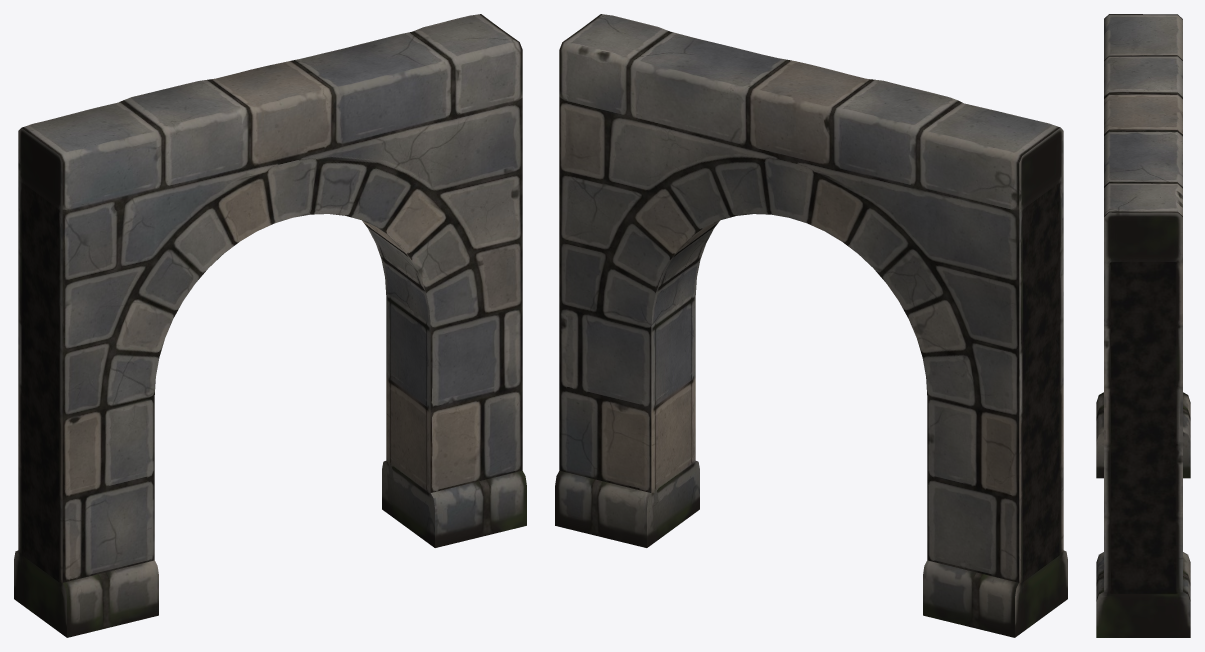
Rendered from wall_door.glb.
3 views of the same model, side by side, from view 1: azimuth 30°, elevation 25°; view 2: azimuth 150°, elevation 25°; view 3: azimuth 270°, elevation 25° (orthographic). The views are drawn at different scales.
Parts seen in each view (by area): view 1: wall_door; view 2: wall_door; view 3: wall_door.
Part boxes in pixels (left/top/right/bottom): wall_door: left=14, top=14, right=526, bottom=637; wall_door: left=555, top=14, right=1067, bottom=637; wall_door: left=1096, top=14, right=1190, bottom=637.
Bounding box in the file's own units: 4 × 3.99 × 0.8.
Materials: 1 (1 with a texture image).
